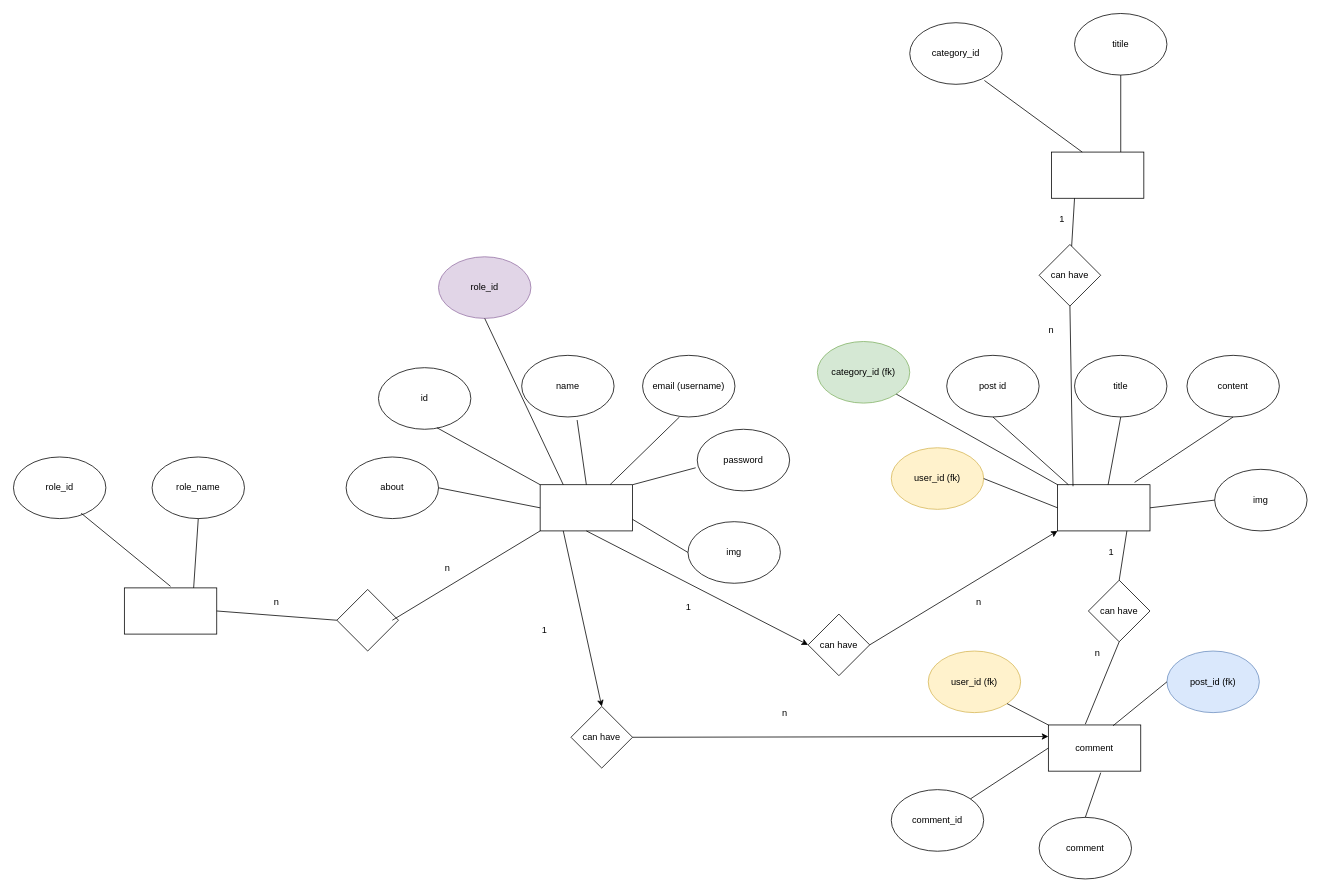
The diagram is 1321 pixels wide and 892 high, and some of its shapes have lost their labels. Here are the shapes that lost their labels. From the top down, the centre of each, then its label:
At [1097,174]: "category".
At [586,507]: "User".
At [1103,507]: "post".
At [170,610]: "Role".
